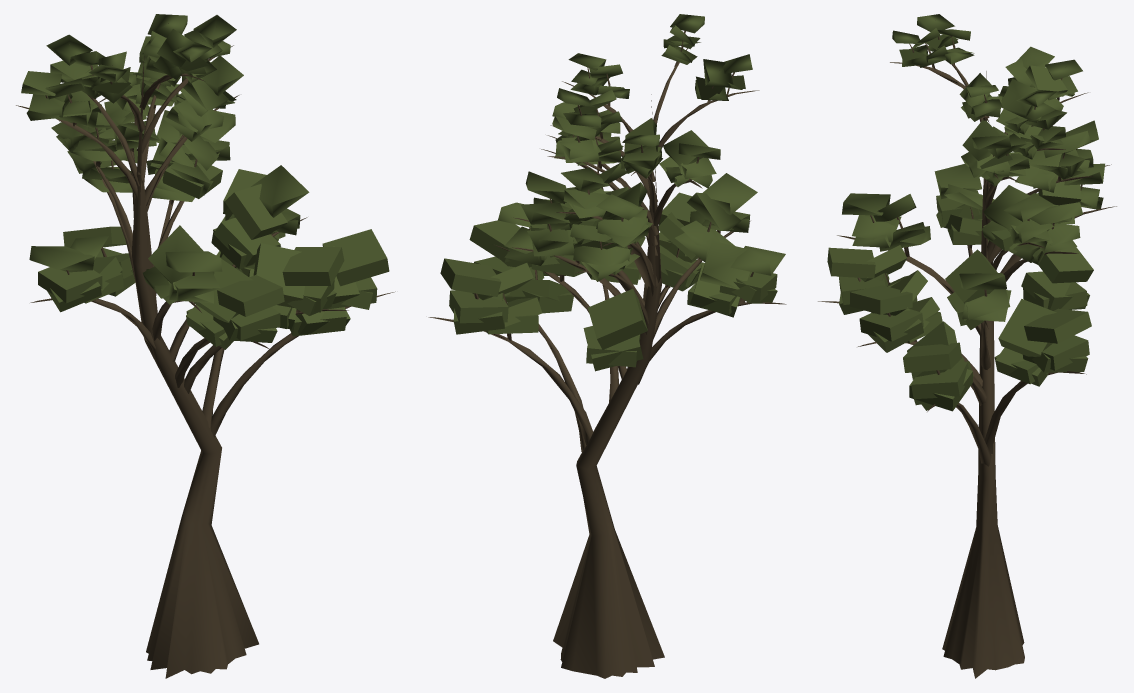
The model's file is Tree_BaldCypress_004.fbx.
3 views of the same model, side by side, from view 1: azimuth 30°, elevation 25°; view 2: azimuth 150°, elevation 25°; view 3: azimuth 270°, elevation 25° (orthographic). The views are drawn at different scales.
Parts seen in each view (by area): view 1: Tree_BaldCypress.004; view 2: Tree_BaldCypress.004; view 3: Tree_BaldCypress.004.
Boxes of the visible parts, left/top/right/bottom form: Tree_BaldCypress.004: left=16, top=14, right=395, bottom=678; Tree_BaldCypress.004: left=428, top=14, right=786, bottom=678; Tree_BaldCypress.004: left=818, top=14, right=1116, bottom=678.
Size of the model in its own units: 1446 by 2593 by 1176.
